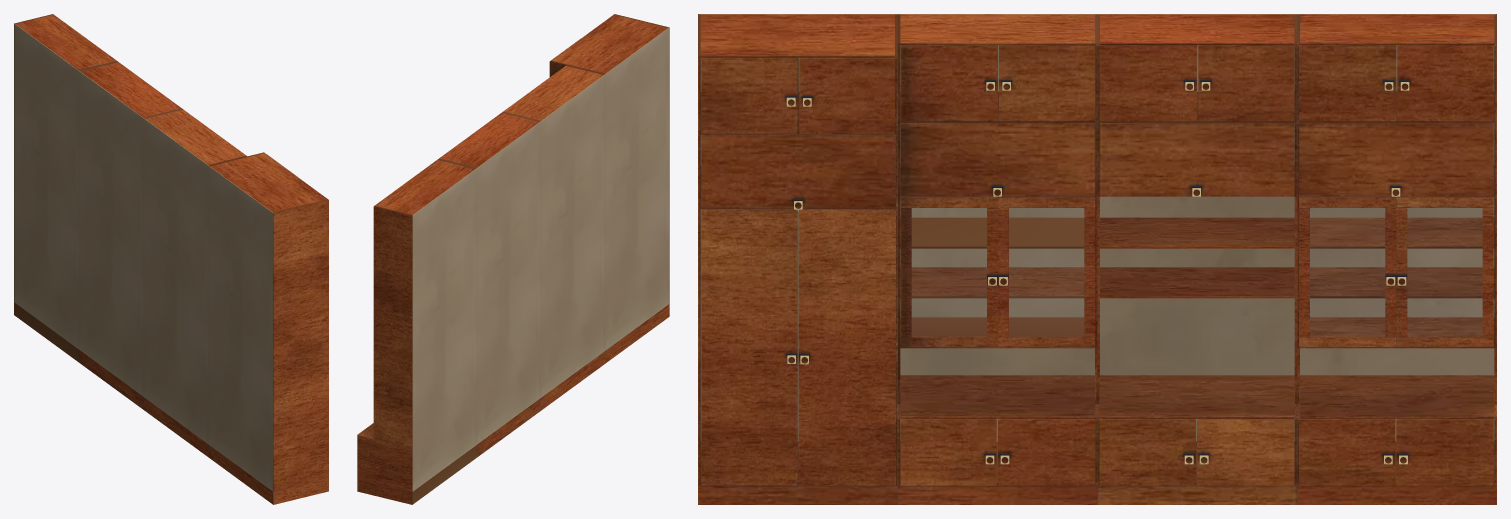
File: stenka.glb
The picture shows the model from 3 angles, left to right: view 1: azimuth 30°, elevation 25°; view 2: azimuth 150°, elevation 25°; view 3: azimuth 270°, elevation 25°; orthographic projection. The views are drawn at different scales.
Visible parts, largest first — view 1: defaultMaterial (×2); view 2: defaultMaterial (×2); view 3: defaultMaterial (×4).
Boxes of the visible parts, bbox=[...] form: defaultMaterial (×2): bbox=[14, 14, 328, 504]; defaultMaterial (×2): bbox=[357, 14, 669, 504]; defaultMaterial (×4): bbox=[698, 14, 1496, 504].
Bounding box in the file's own units: 47.48 × 224 × 361.
Materials: 7 (6 with a texture image).
